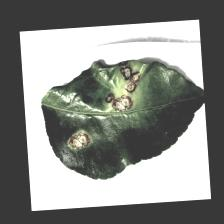canker: (57, 53, 147, 163)
